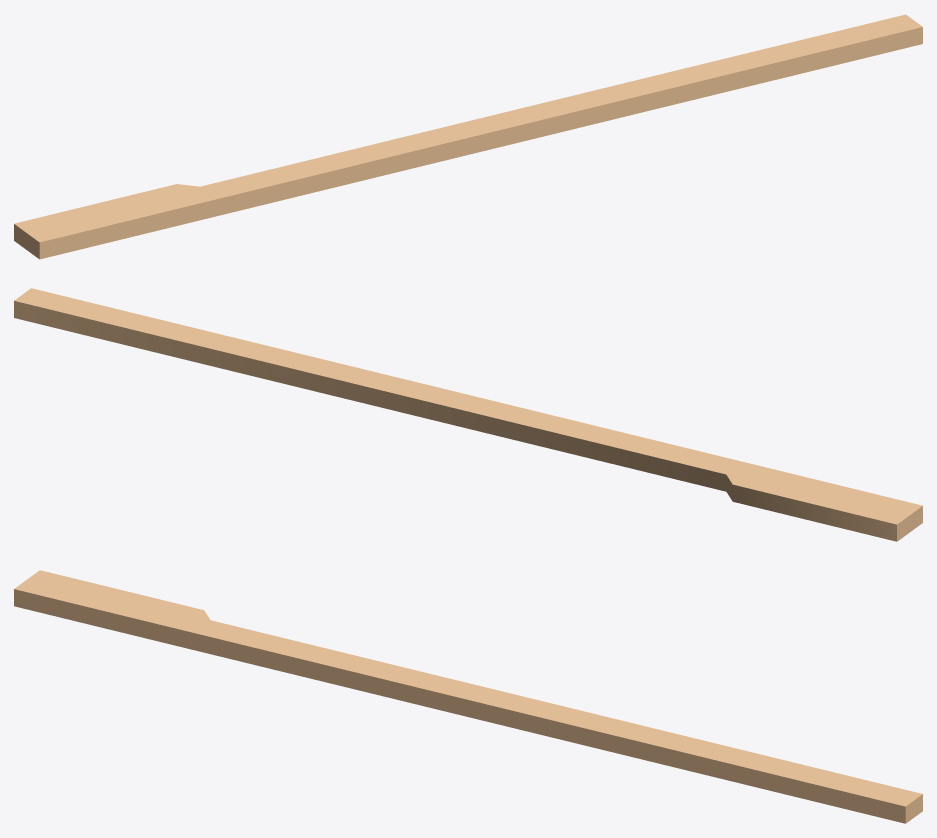
File: skewerVegetables.GLB
3 views of the same model, one above another, from view 1: azimuth 30°, elevation 25°; view 2: azimuth 150°, elevation 25°; view 3: azimuth 330°, elevation 25° (orthographic).
Parts seen in each view (by area): view 1: skewerVegetables; view 2: skewerVegetables; view 3: skewerVegetables.
Boxes of the visible parts, bbox=[...] form: skewerVegetables: bbox=[14, 14, 922, 259]; skewerVegetables: bbox=[14, 288, 922, 541]; skewerVegetables: bbox=[14, 570, 922, 823].
Bounding box in the file's own units: 0.5967 × 0.011 × 0.03.
